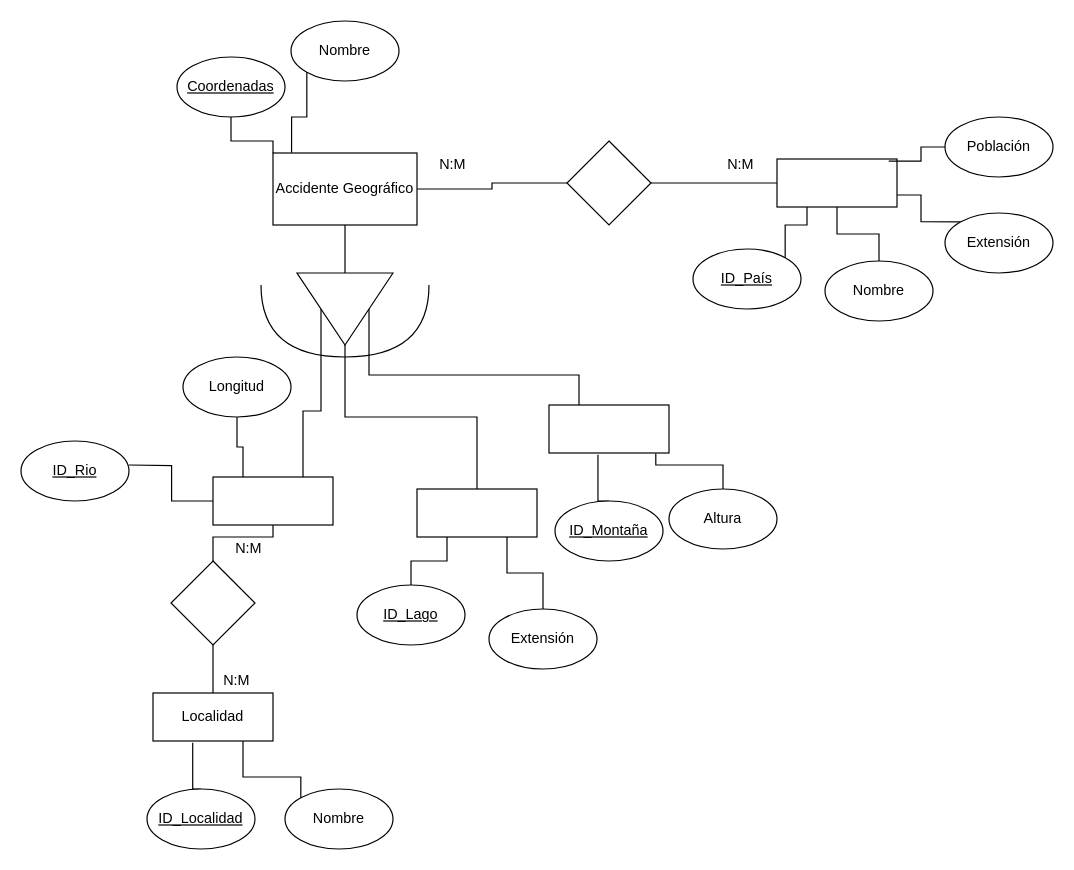
This 1074x870 diagram has some shape labels left out. The centre of each missing label's shape, as x and y in pixels:
Lagos: point 476,512
Montaña: point 608,428
Pasa: point 212,602
País: point 836,182
Rios: point 272,500
Tiene: point 608,182
